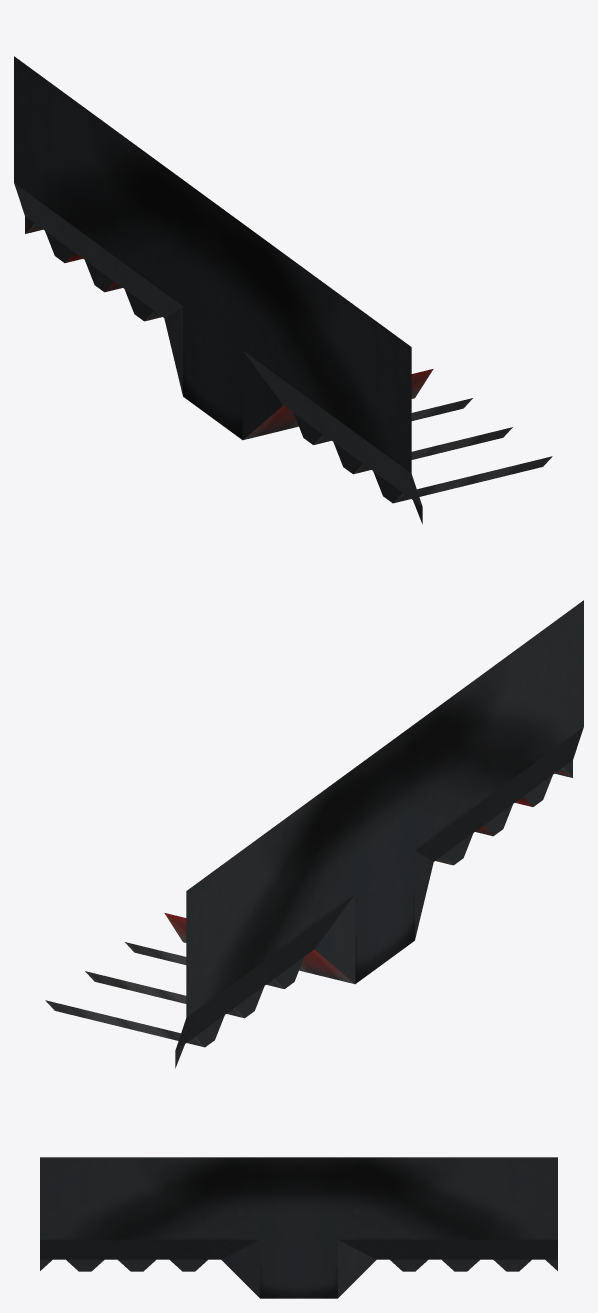
Rendered from grave_power_door_top.glb.
The picture shows the model from 3 angles, top to bottom: view 1: azimuth 30°, elevation 25°; view 2: azimuth 150°, elevation 25°; view 3: azimuth 270°, elevation 25°; orthographic projection. The views are drawn at different scales.
Visible parts, largest first — view 1: 00_fac_powered_door_3x1_top-col.001; view 2: 00_fac_powered_door_3x1_top-col.001; view 3: 00_fac_powered_door_3x1_top-col.001.
Part boxes in pixels (x1,y1,x2,y2): 00_fac_powered_door_3x1_top-col.001: [14, 56, 552, 524]; 00_fac_powered_door_3x1_top-col.001: [45, 600, 583, 1068]; 00_fac_powered_door_3x1_top-col.001: [40, 1157, 557, 1298].
Size of the model in its own units: 1 by 1.2 by 4.4.
Materials: 2 (2 with a texture image).
